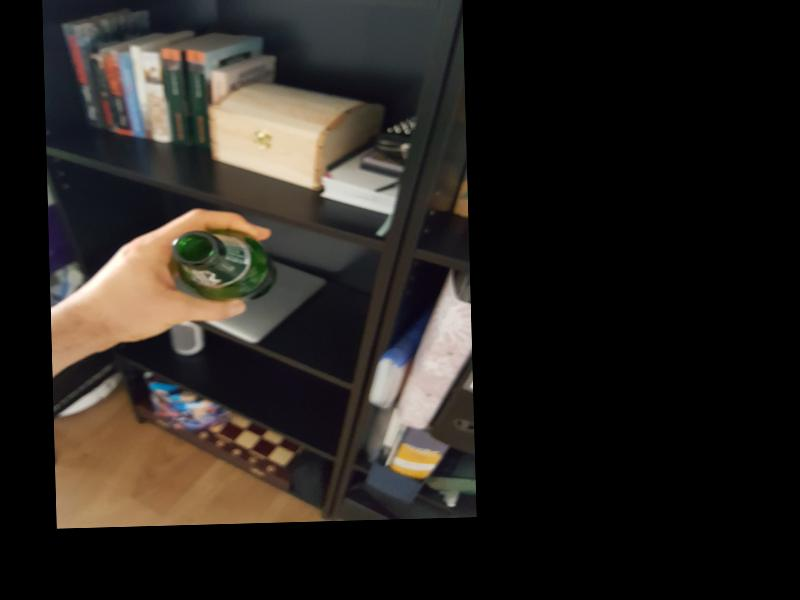Beer: (170, 229, 276, 306)
